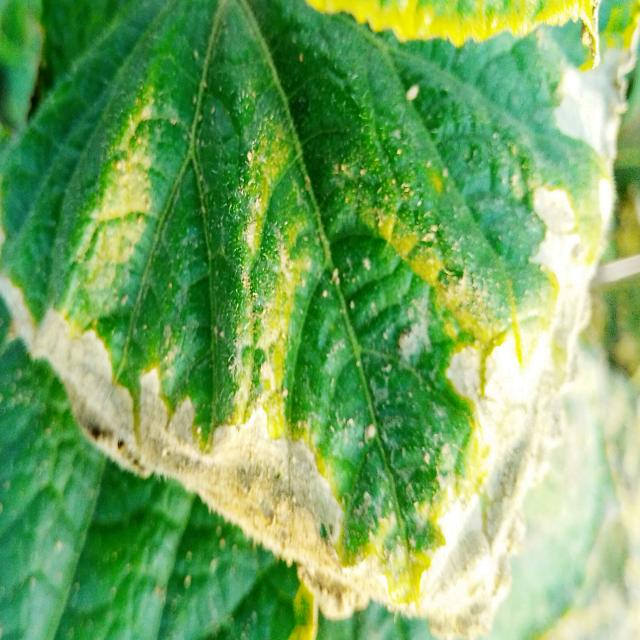Gummy-Stem-Blight: (0, 23, 637, 640)
